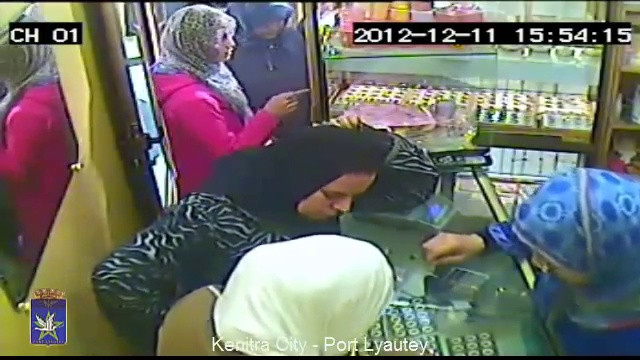face: (291, 173, 359, 225), (213, 28, 238, 62), (258, 16, 286, 38)
